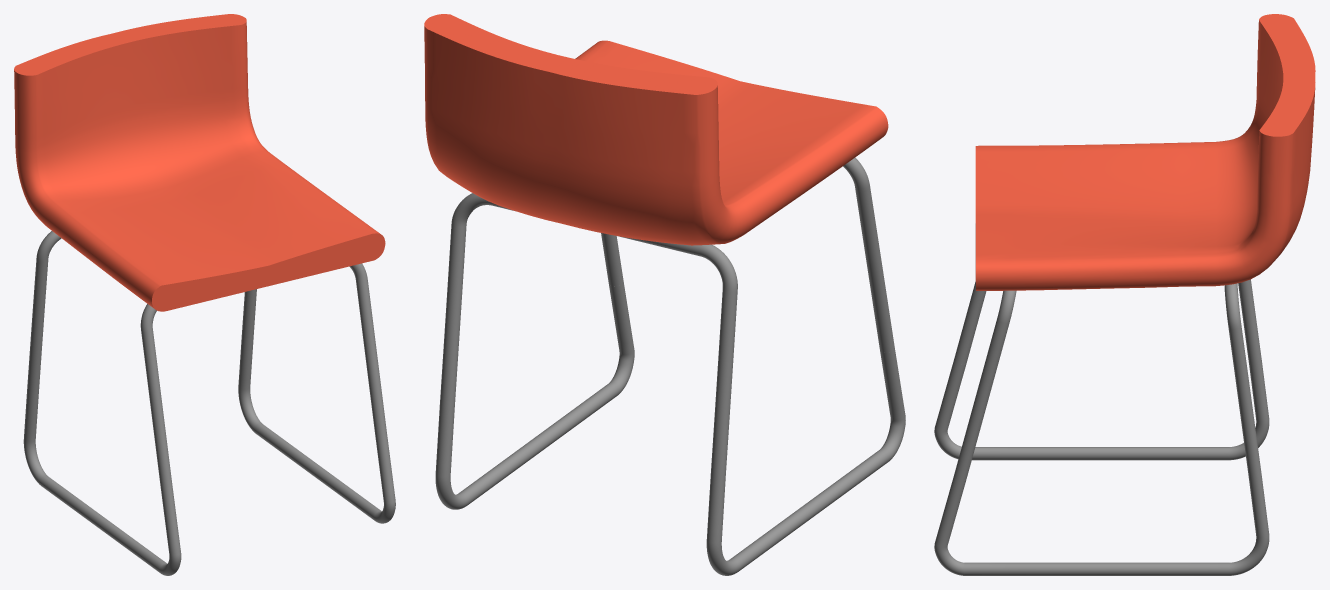
Rendered from BERNHARD_Chair.obj.
3 renders of one model, left to right at view 1: azimuth 30°, elevation 25°; view 2: azimuth 150°, elevation 25°; view 3: azimuth 270°, elevation 25°, orthographic. The views are drawn at different scales.
Visible parts, largest first — view 1: Loft001, Loft004, Loft005, Loft003, Loft002; view 2: Loft001, Loft002, Loft003, Loft005, Loft004; view 3: Loft001, Loft005, Loft003, Loft002, Loft004.
Boxes of the visible parts, x1,y1,x2,y2 form: Loft001: (14,14,385,311); Loft004: (140,263,386,488); Loft005: (238,337,395,523); Loft003: (23,389,181,575); Loft002: (27,231,256,392); Loft001: (424,14,888,245); Loft002: (440,193,737,474); Loft003: (706,348,905,575); Loft005: (435,282,634,509); Loft004: (601,157,894,352); Loft001: (975,14,1315,290); Loft005: (934,476,1269,575); Loft003: (934,360,1269,460); Loft002: (1224,279,1261,480); Loft004: (954,281,1016,480).
Bounding box in the file's own units: 451 × 739 × 577.
